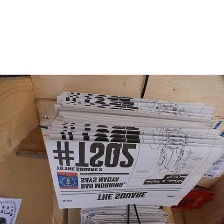news_paper: (41, 90, 224, 212)
